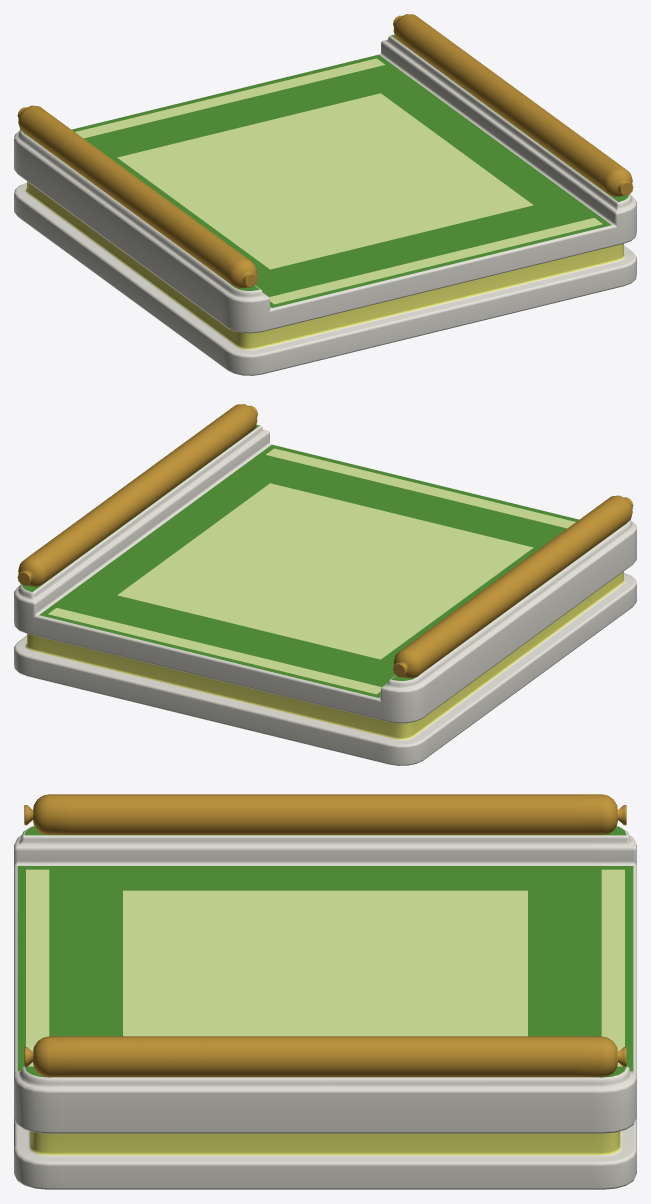
Rendered from SM_Platform_02.fbx.
3 views of the same model, one above another, from view 1: azimuth 30°, elevation 25°; view 2: azimuth 150°, elevation 25°; view 3: azimuth 270°, elevation 25° (orthographic). The views are drawn at different scales.
Parts seen in each view (by area): view 1: SM_Platform_02, SM_Platform_Sausage_02; view 2: SM_Platform_02, SM_Platform_Sausage_02; view 3: SM_Platform_02, SM_Platform_Sausage_02.
Part boxes in pixels (x1=…): SM_Platform_02: x1=14, y1=34, x2=636, y2=375; SM_Platform_Sausage_02: x1=17, y1=14, x2=633, y2=288; SM_Platform_02: x1=14, y1=424, x2=636, y2=765; SM_Platform_Sausage_02: x1=17, y1=404, x2=633, y2=678; SM_Platform_02: x1=14, y1=826, x2=636, y2=1189; SM_Platform_Sausage_02: x1=24, y1=794, x2=626, y2=1077.
Bounding box in the file's own units: 1335 × 339 × 1340.
